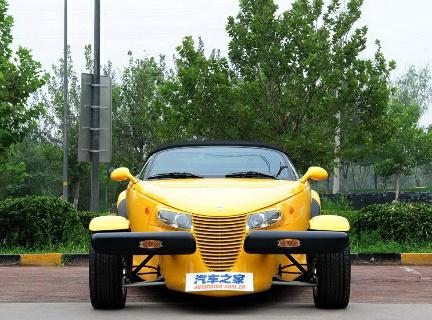克莱斯勒-猎兽: (82, 143, 360, 313)
